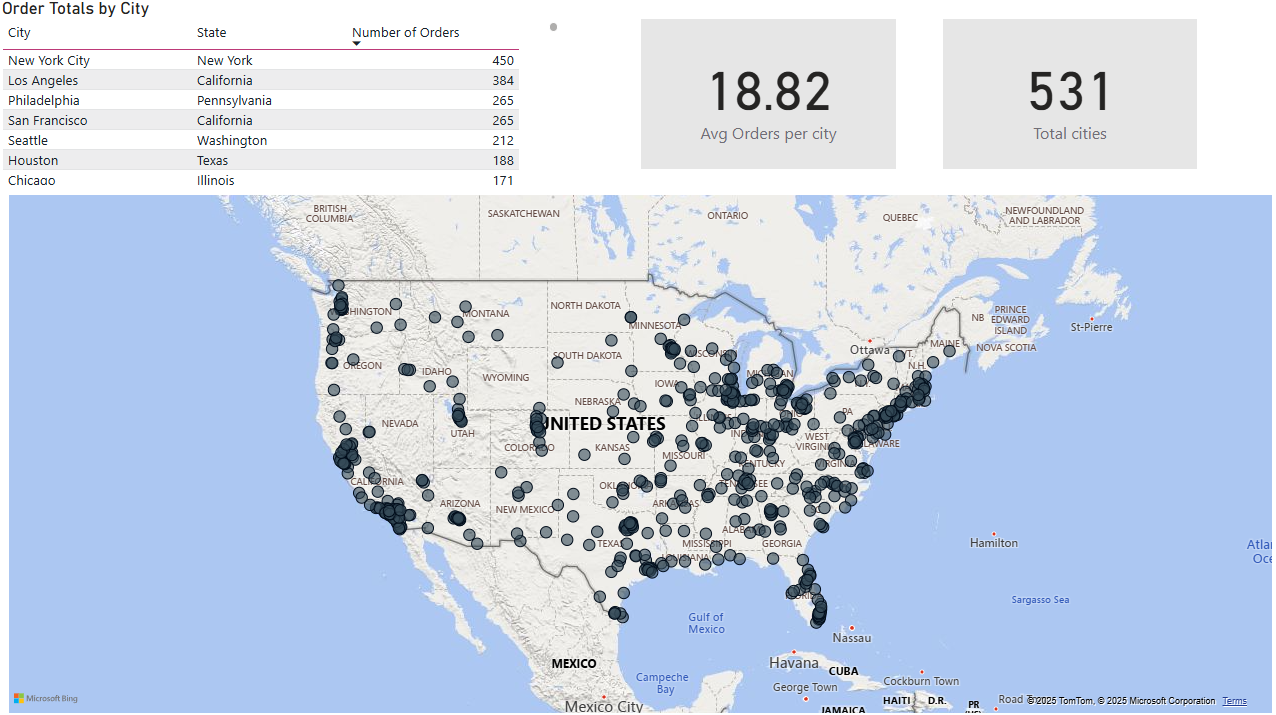

Layout of this report page (visuals, bound fields, positions):
{"tool":"powerbi","page":{"name":"Order Location (With Map)","canvas":[1280,720],"ordinal":2},"visuals":[{"type":"tableEx","title":"Order Totals by City","fields":{"Values":["Orders.City","Orders.State","Orders.Order ID"]},"box":[0,0,566,192],"z":0},{"type":"map","fields":{"Category":["Orders.Location"]},"box":[7,192,1273,528],"z":1000},{"type":"card","fields":{"Values":["Orders.Avg Orders per city"]},"box":[644,21,255,150],"z":2000},{"type":"card","fields":{"Values":["Orders.Total cities"]},"box":[946,21,254,150],"z":3000}]}

Visuals, with their boxes in screenshot pixels (x1, y1, x2, y2), scaled from the page's 1280x720 canvas onto the 1276x715 screenshot:
"Order Totals by City" tableEx: [0,0,564,191]
map - Orders.Location: [7,191,1275,714]
card - Orders.Avg Orders per city: [642,21,896,170]
card - Orders.Total cities: [943,21,1196,170]
